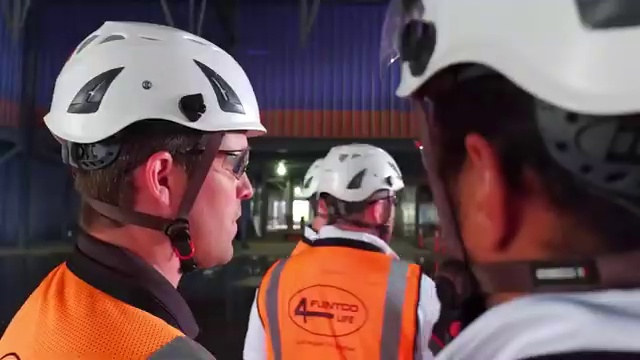helmet: (378, 1, 639, 127), (36, 18, 277, 146), (319, 139, 418, 200)
jacket: (249, 244, 430, 360), (2, 259, 209, 360)
